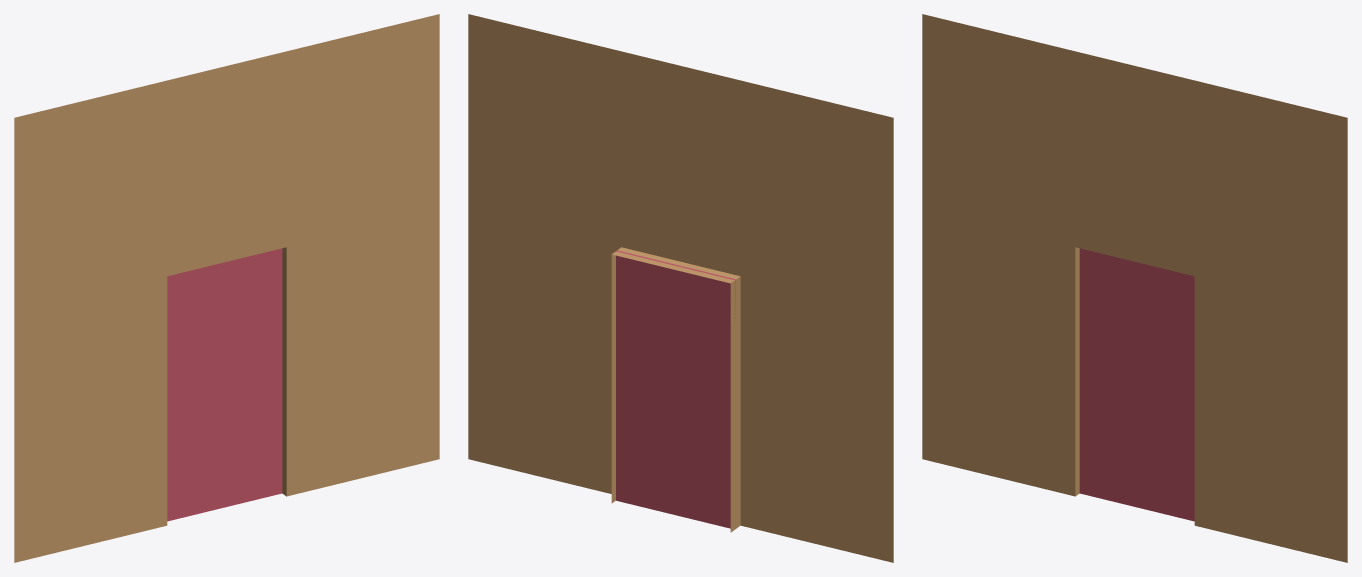
The model's file is WithDoor.fbx.
3 renders of one model, left to right at view 1: azimuth 30°, elevation 25°; view 2: azimuth 150°, elevation 25°; view 3: azimuth 330°, elevation 25°, orthographic.
Parts seen in each view (by area): view 1: Wall, Door; view 2: Wall, Door; view 3: Wall, Door.
Part boxes in pixels (box(x1,y1,x2,y2)): Wall: box(14, 14, 439, 562); Door: box(167, 248, 282, 521); Wall: box(468, 14, 893, 562); Door: box(616, 250, 735, 528); Wall: box(922, 14, 1347, 562); Door: box(1079, 248, 1194, 521).
Bounding box in the file's own units: 500 × 500 × 20.
